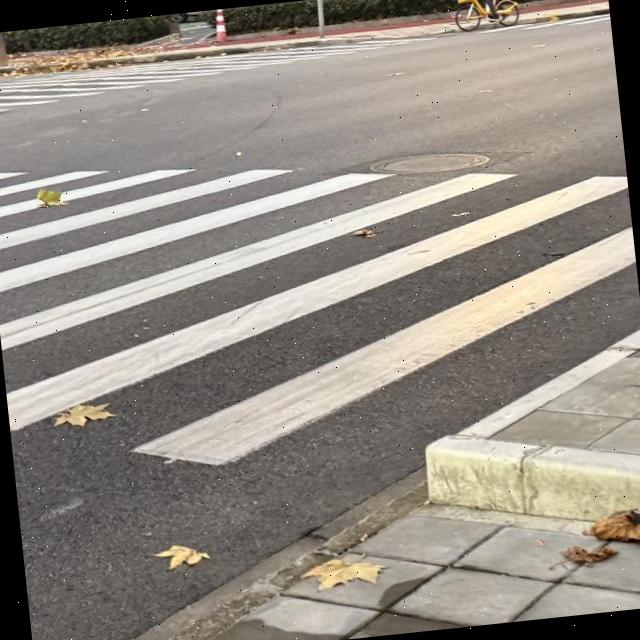curb: (161, 481, 425, 640), (424, 329, 640, 519), (0, 31, 449, 76), (525, 7, 609, 22)
